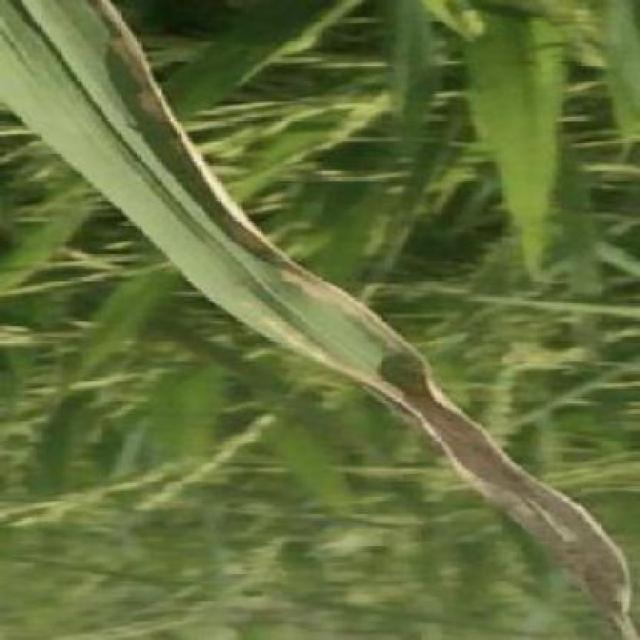Brown_Spot: (1, 0, 182, 208), (228, 271, 422, 387)
